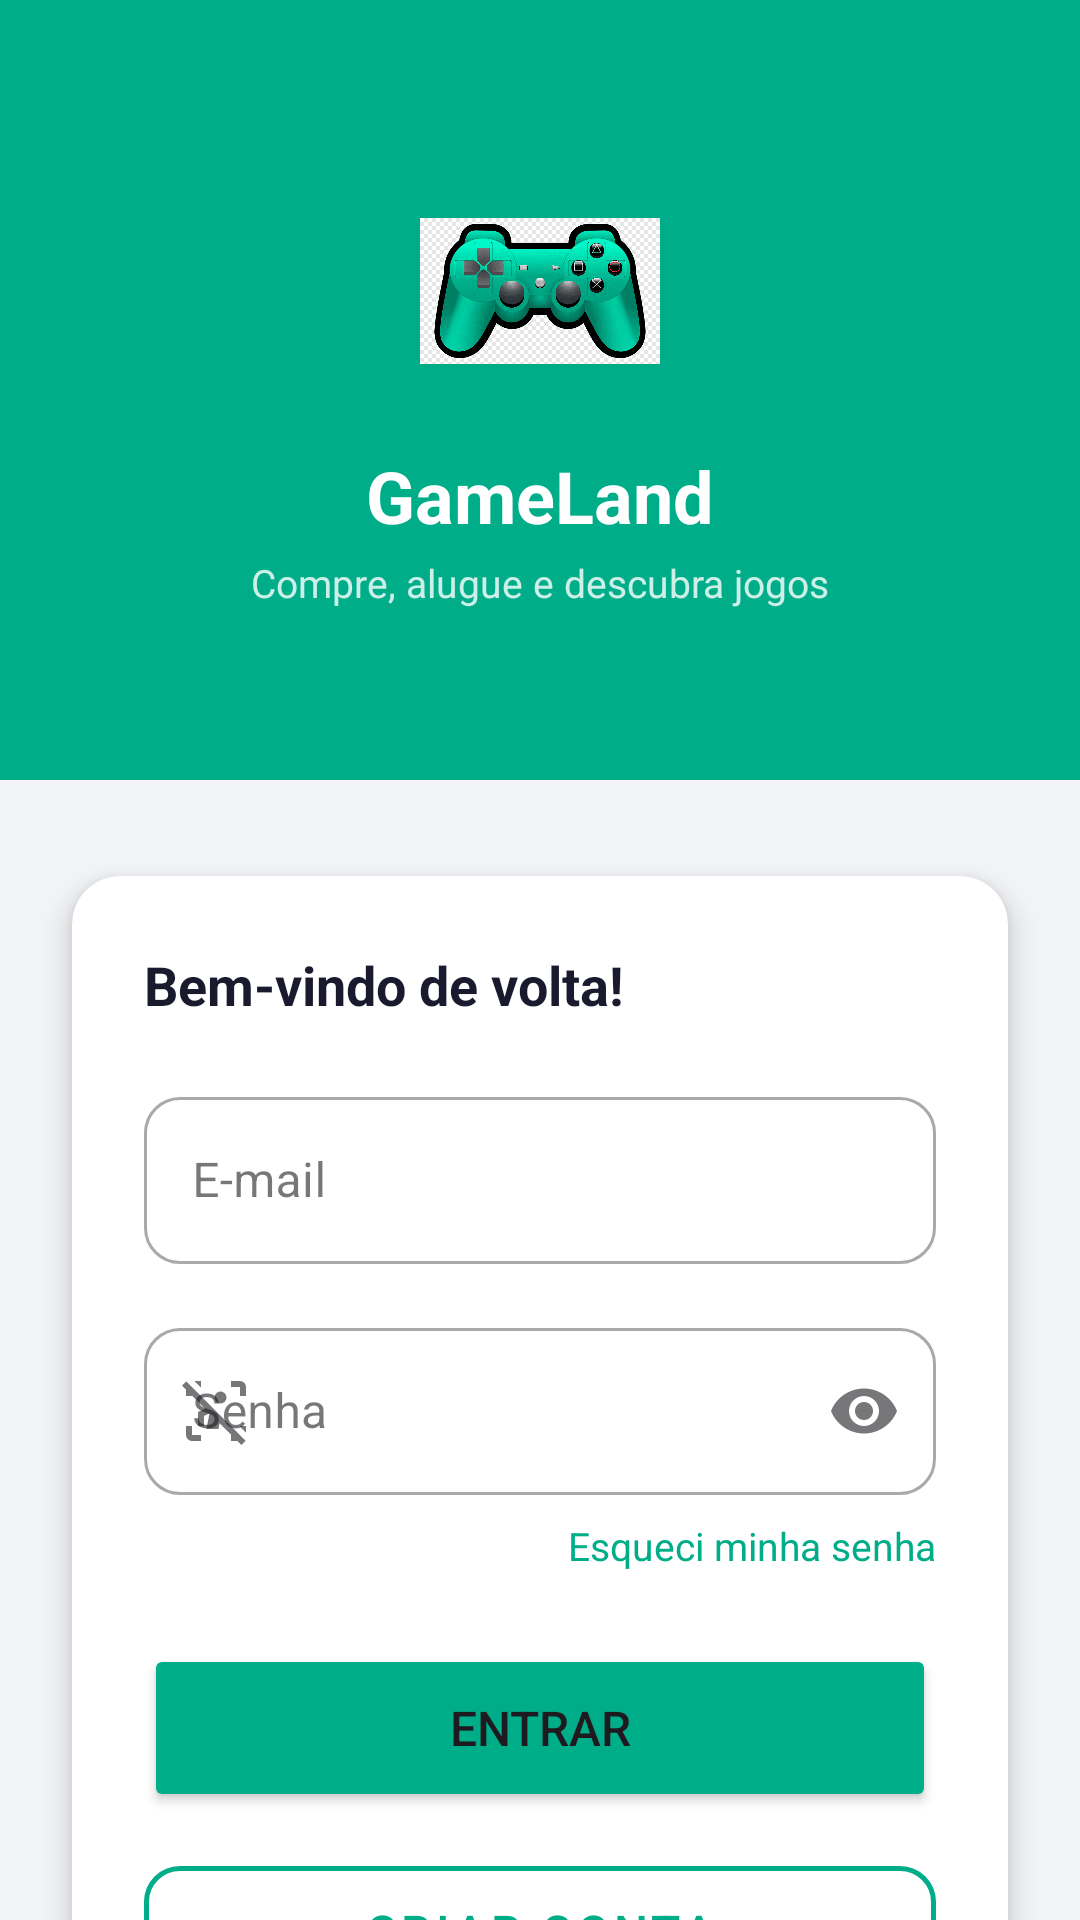

Icon bounding boxes for this 1080 × 1920 phone screenshot, format (x1, y1, x2, y2):
controlegl: (420, 218, 660, 364)
